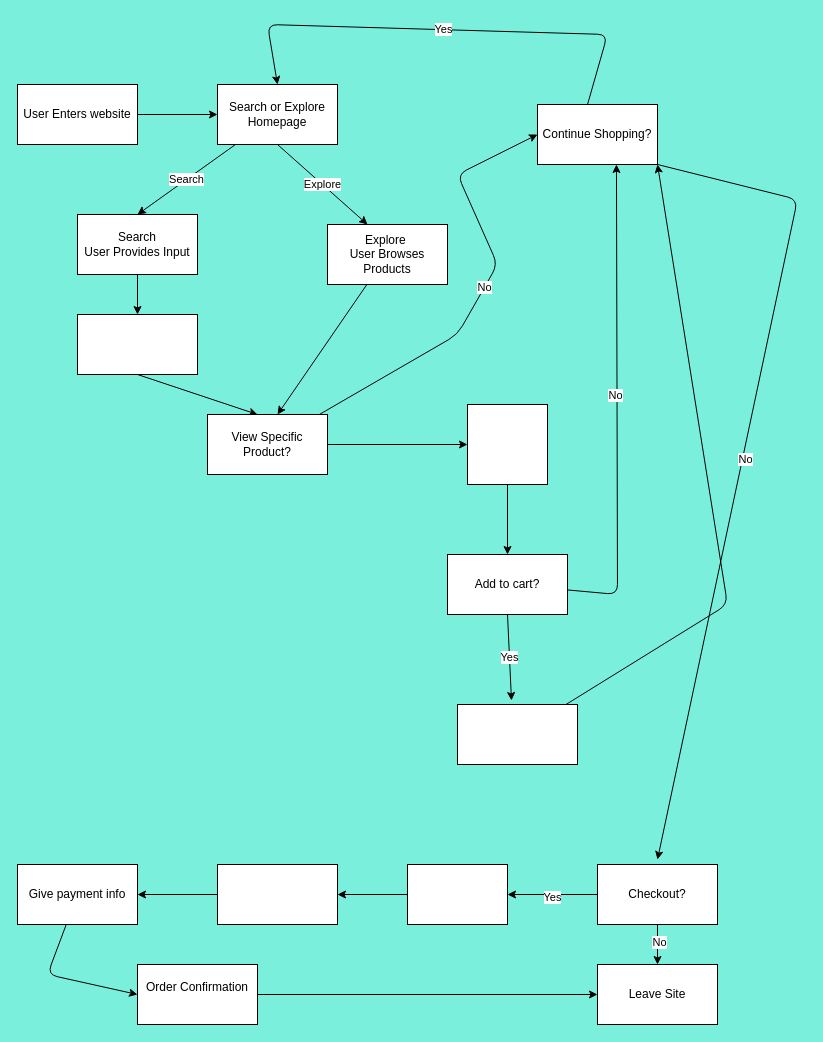
This 823x1042 diagram has some shape labels left out. The shapes that lost their labels are listed below. From the top down, each one's box as (x1, y1, x2, y2) in pixels, then its label:
(76, 314, 198, 374): Browses Products From Search Results
(466, 404, 548, 484): Product webpage opens
(456, 704, 578, 764): Receive add to cart notification
(216, 864, 338, 924): View Payment Screen
(406, 864, 508, 924): View Cart Screen
